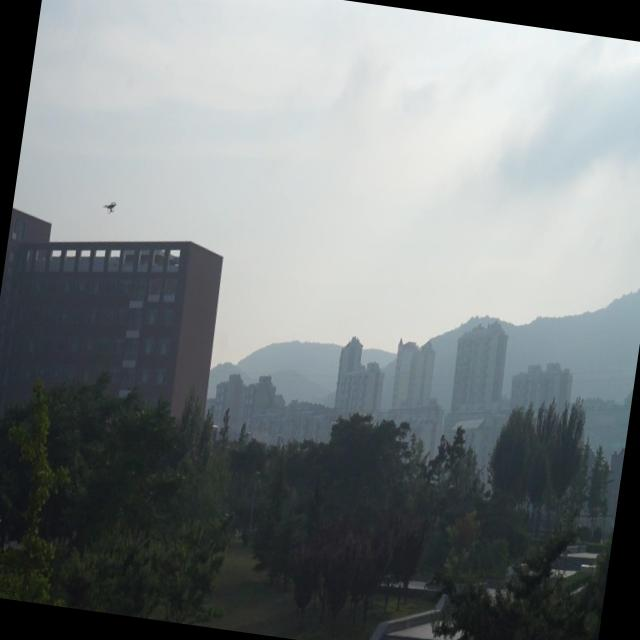drone: (101, 196, 120, 218)
